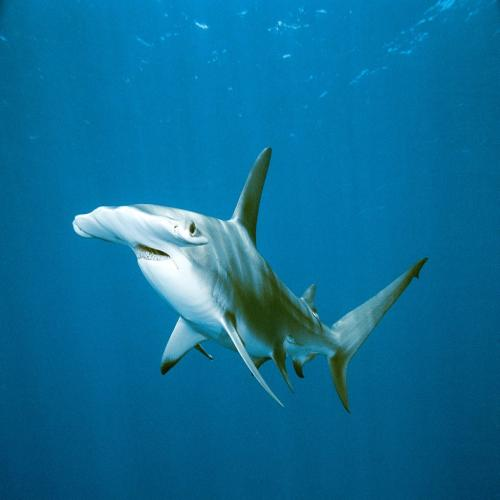shark-endangered: (73, 144, 428, 414)
